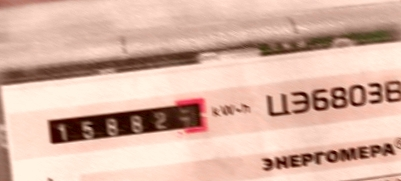1: (55, 121, 69, 141)
2: (153, 110, 167, 130)
5: (80, 119, 94, 140)
7: (179, 115, 191, 130)
8: (129, 113, 143, 135), (105, 116, 118, 138)
screen: (38, 91, 217, 154)
